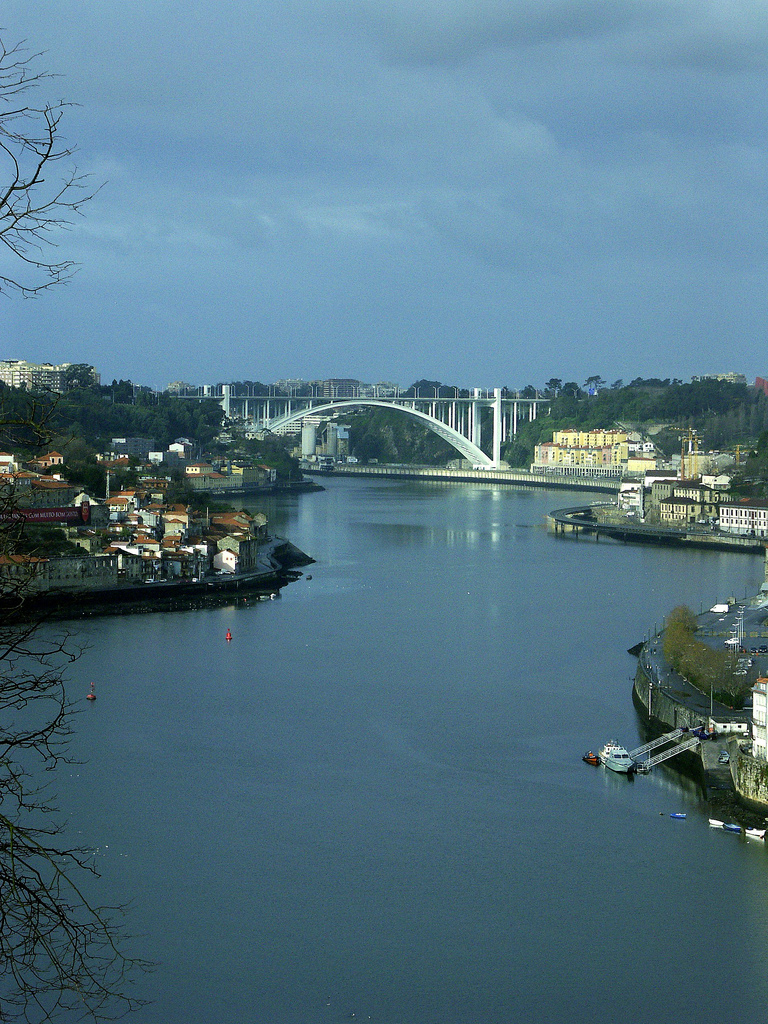arrabida: (192, 379, 553, 471)
